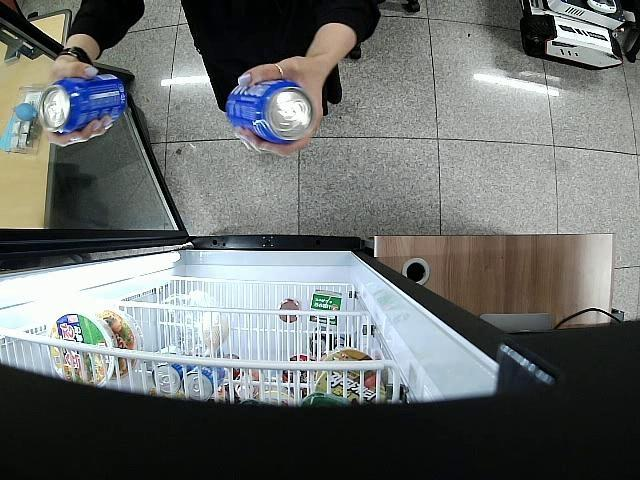13_pocariSweat: (224, 77, 316, 145), (36, 72, 126, 135)
